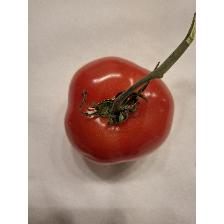Tomate: (62, 12, 194, 166)
